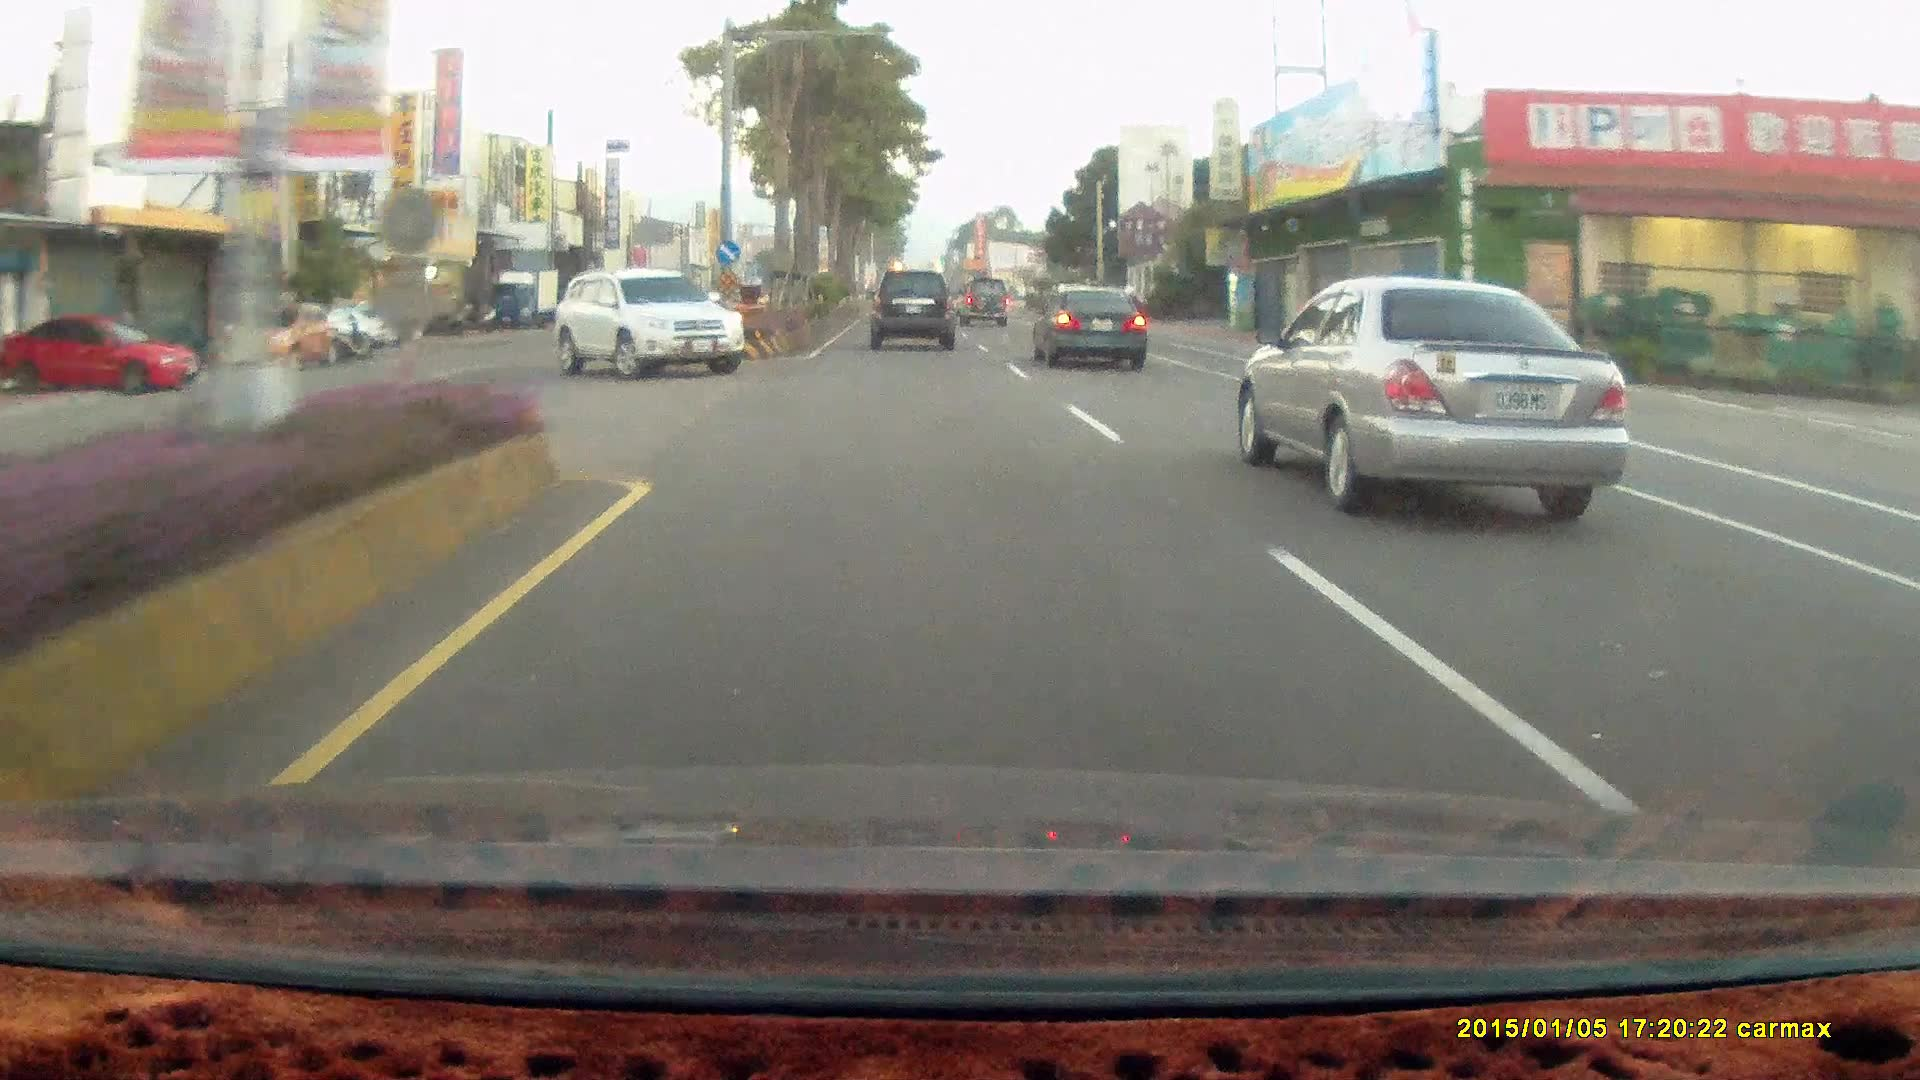vehicle: (1226, 276, 1629, 527), (547, 270, 748, 381), (549, 269, 746, 378), (3, 316, 198, 404), (0, 313, 195, 394), (1031, 287, 1150, 373), (1031, 284, 1147, 369), (865, 266, 961, 357), (223, 302, 340, 376), (866, 269, 952, 347), (313, 298, 423, 349), (956, 280, 1011, 331), (957, 278, 1010, 324)
